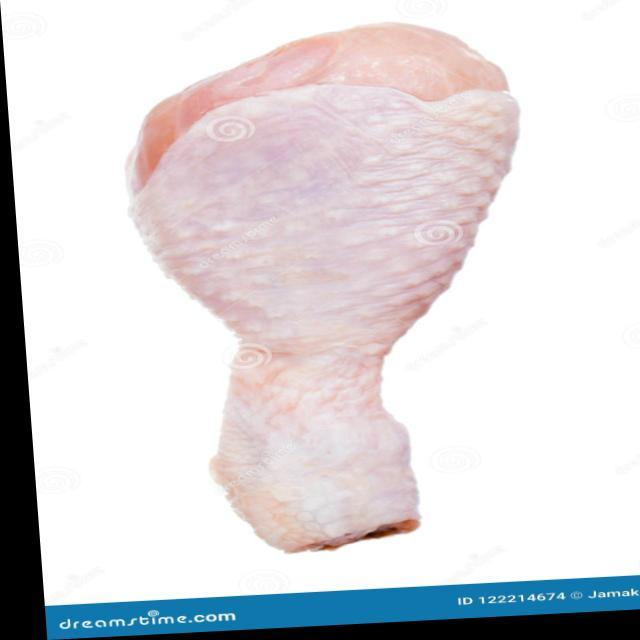leg: (99, 23, 543, 550)
